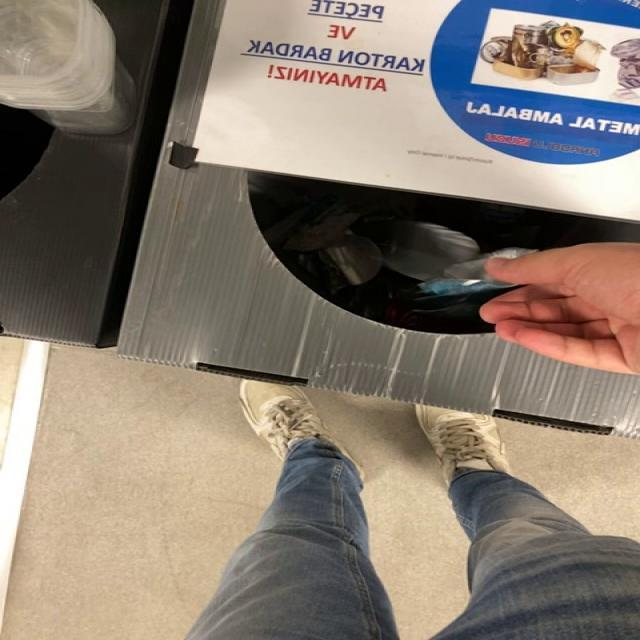Metal: (419, 248, 535, 296)
